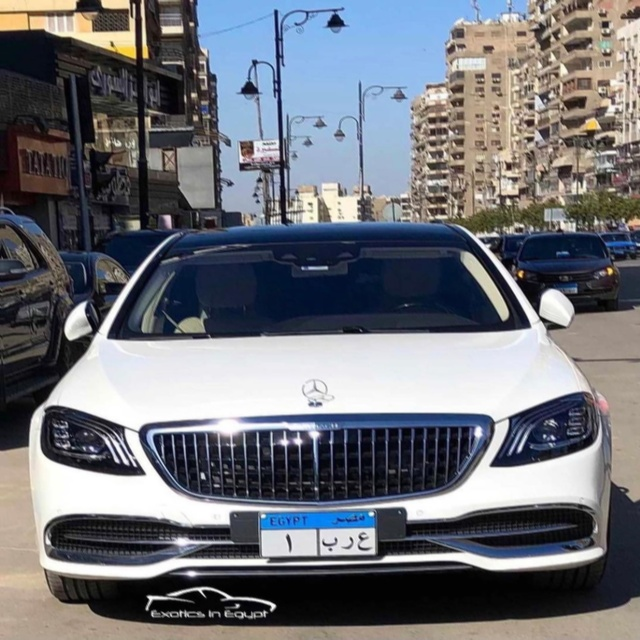License Plate: (255, 508, 379, 560)
